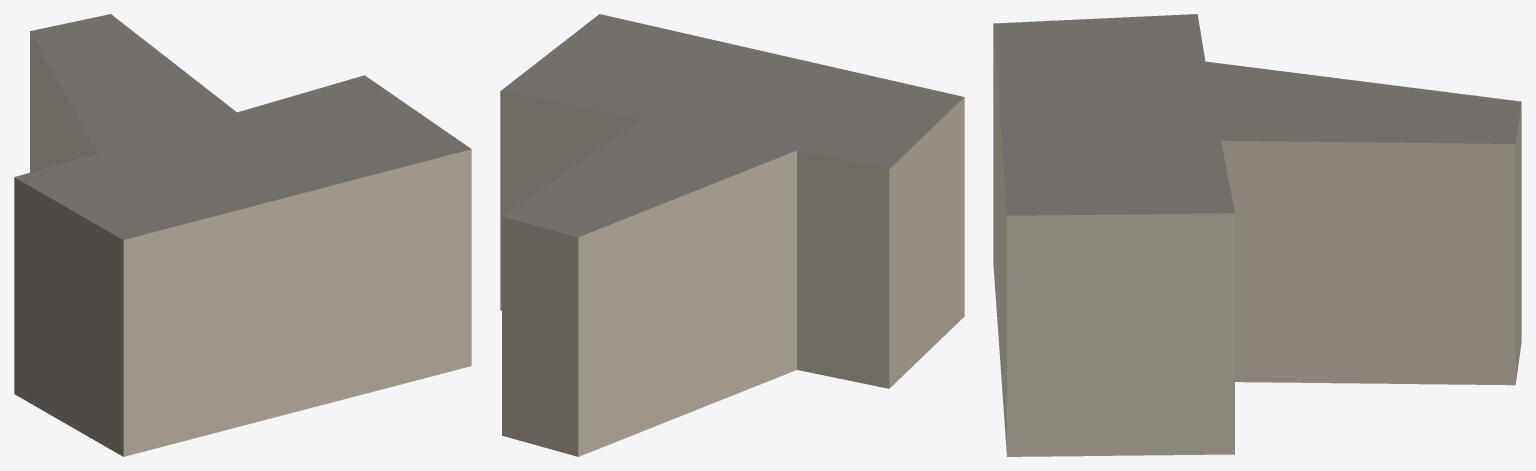
The picture shows the model from 3 angles, left to right: view 1: azimuth 30°, elevation 25°; view 2: azimuth 150°, elevation 25°; view 3: azimuth 270°, elevation 25°; orthographic projection. The views are drawn at different scales.
Parts seen in each view (by area): view 1: HP-w505641172; view 2: HP-w505641172; view 3: HP-w505641172.
Boxes of the visible parts, x1,y1,x2,y2 form: HP-w505641172: (14, 14, 471, 456); HP-w505641172: (500, 14, 964, 456); HP-w505641172: (993, 14, 1521, 456).
Bounding box in the file's own units: 26.92 × 15 × 29.77.
